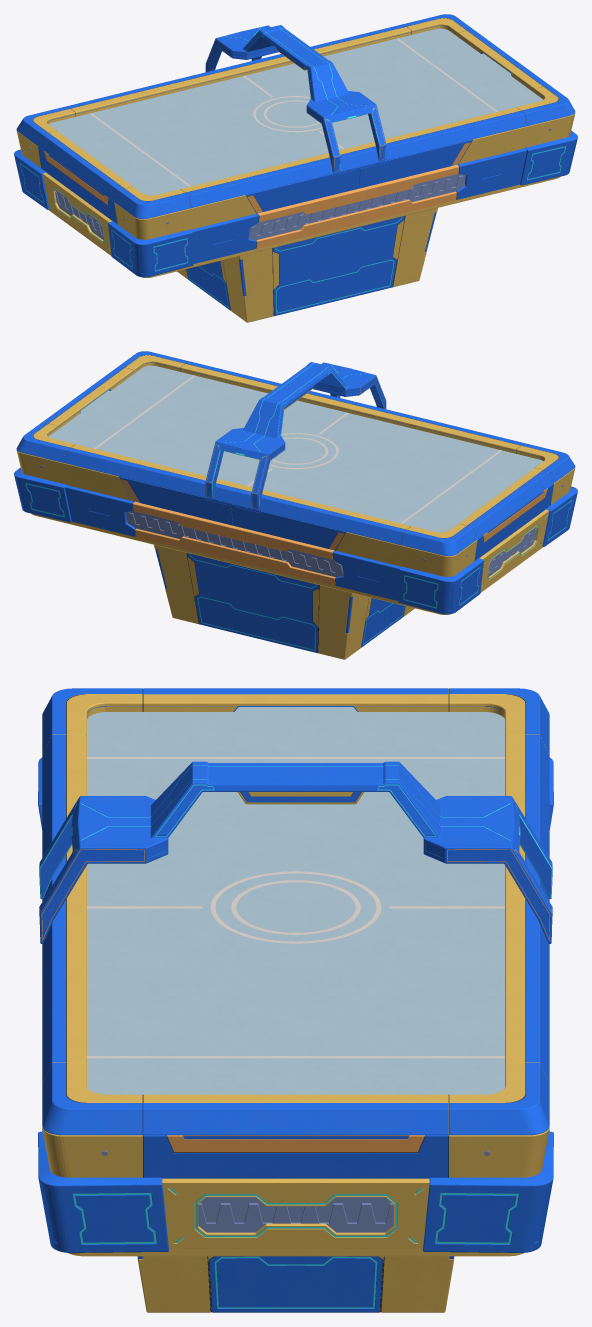
File: HockeyA.fbx
3 views of the same model, one above another, from view 1: azimuth 30°, elevation 25°; view 2: azimuth 150°, elevation 25°; view 3: azimuth 270°, elevation 25° (orthographic). The views are drawn at different scales.
Parts seen in each view (by area): view 1: SM_VA_HockeyA.mo; view 2: SM_VA_HockeyA.mo; view 3: SM_VA_HockeyA.mo.
Boxes of the visible parts, box(x1,y1,x2,y2) form: SM_VA_HockeyA.mo: box(14, 14, 577, 322); SM_VA_HockeyA.mo: box(14, 351, 577, 659); SM_VA_HockeyA.mo: box(38, 688, 553, 1312).
Bounding box in the file's own units: 103 × 50.61 × 51.8.
